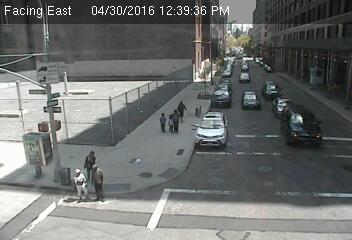neg: (189, 49, 218, 88), (142, 77, 164, 106), (38, 64, 60, 93), (249, 60, 270, 88), (227, 83, 245, 107), (219, 46, 237, 70), (196, 134, 211, 154), (54, 101, 67, 120), (15, 132, 28, 149)
pos: (82, 164, 110, 200), (64, 166, 88, 199), (78, 147, 101, 177), (147, 109, 167, 135), (165, 108, 185, 134), (179, 98, 196, 121)
